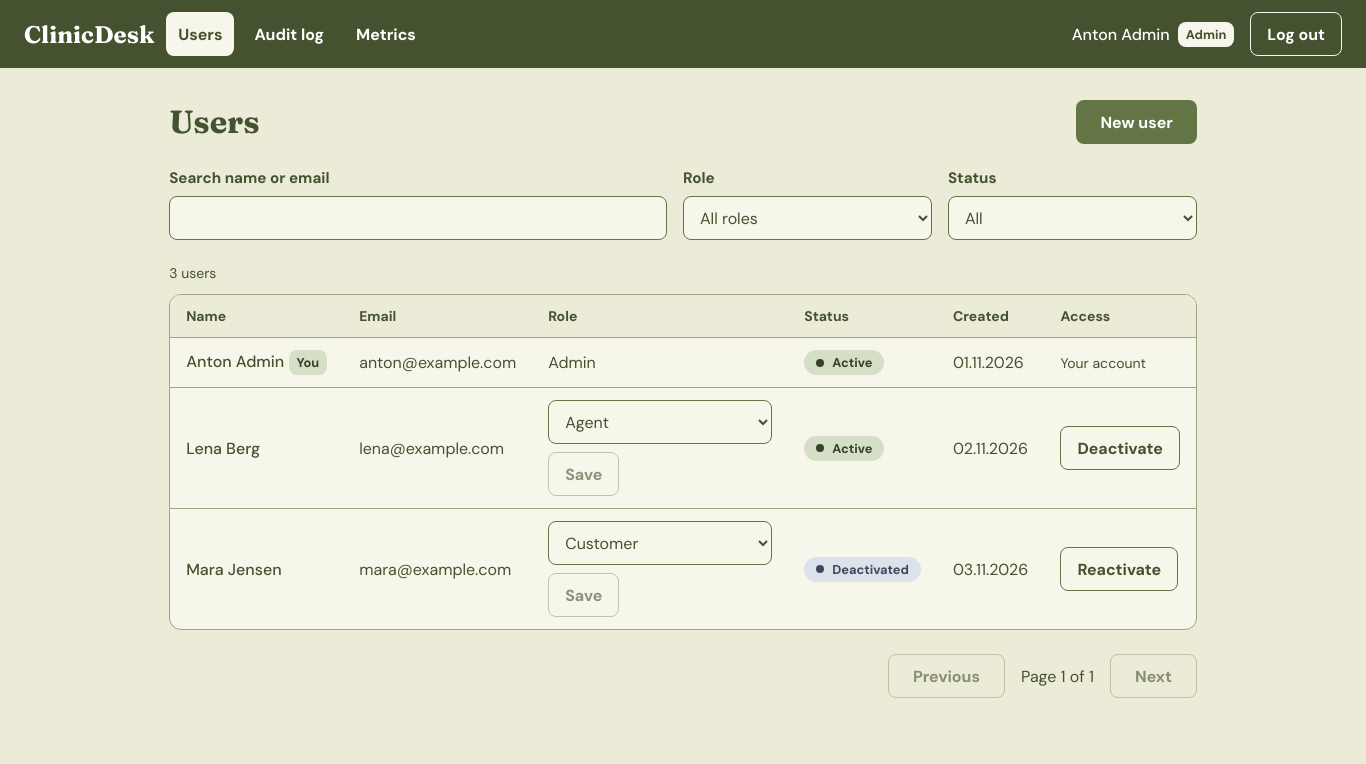
Scenario: create user › creates a user, shows a confirmation and reloads the list
Click the button "New user" at (1137, 122), box x1=1076 y1=100 x2=1197 y2=144
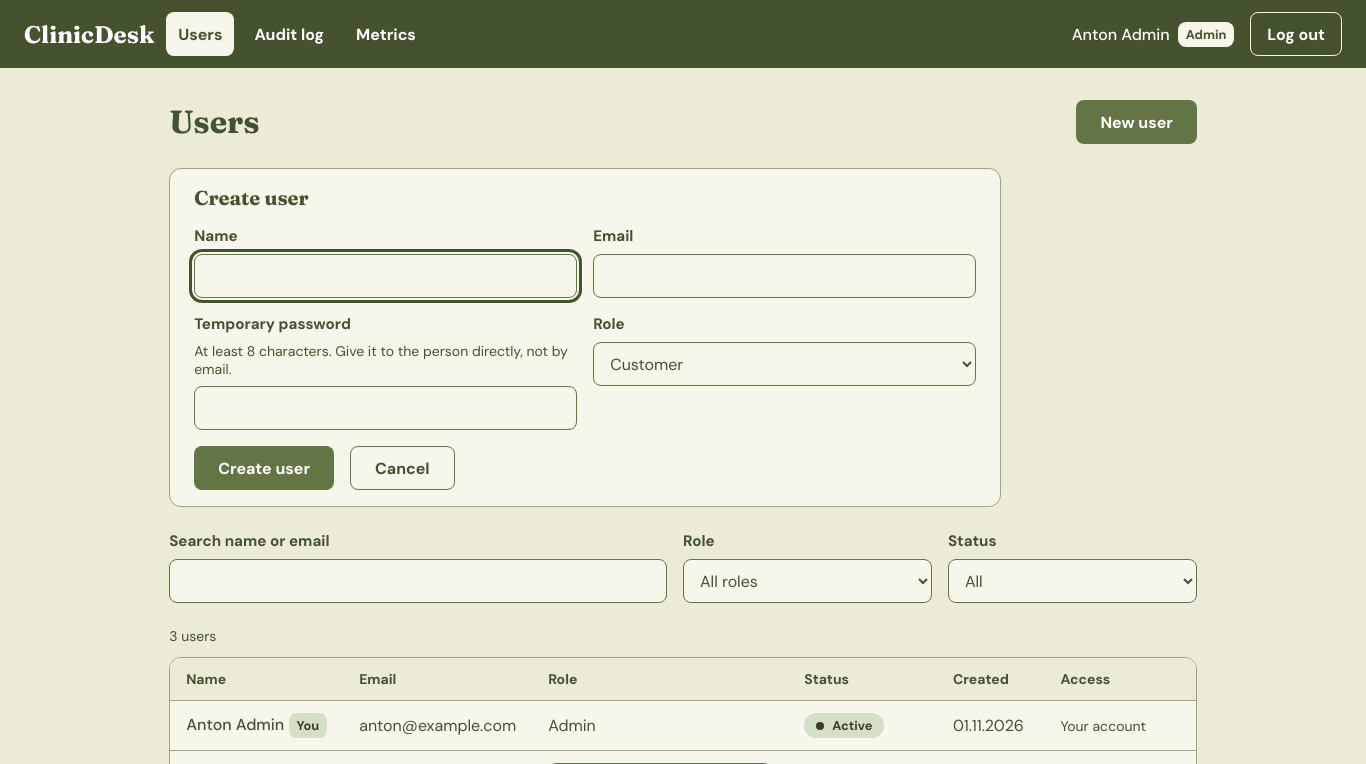
Type "Omar Haddad" into the field labelled "Name" at (386, 276), box x1=194 y1=254 x2=577 y2=298
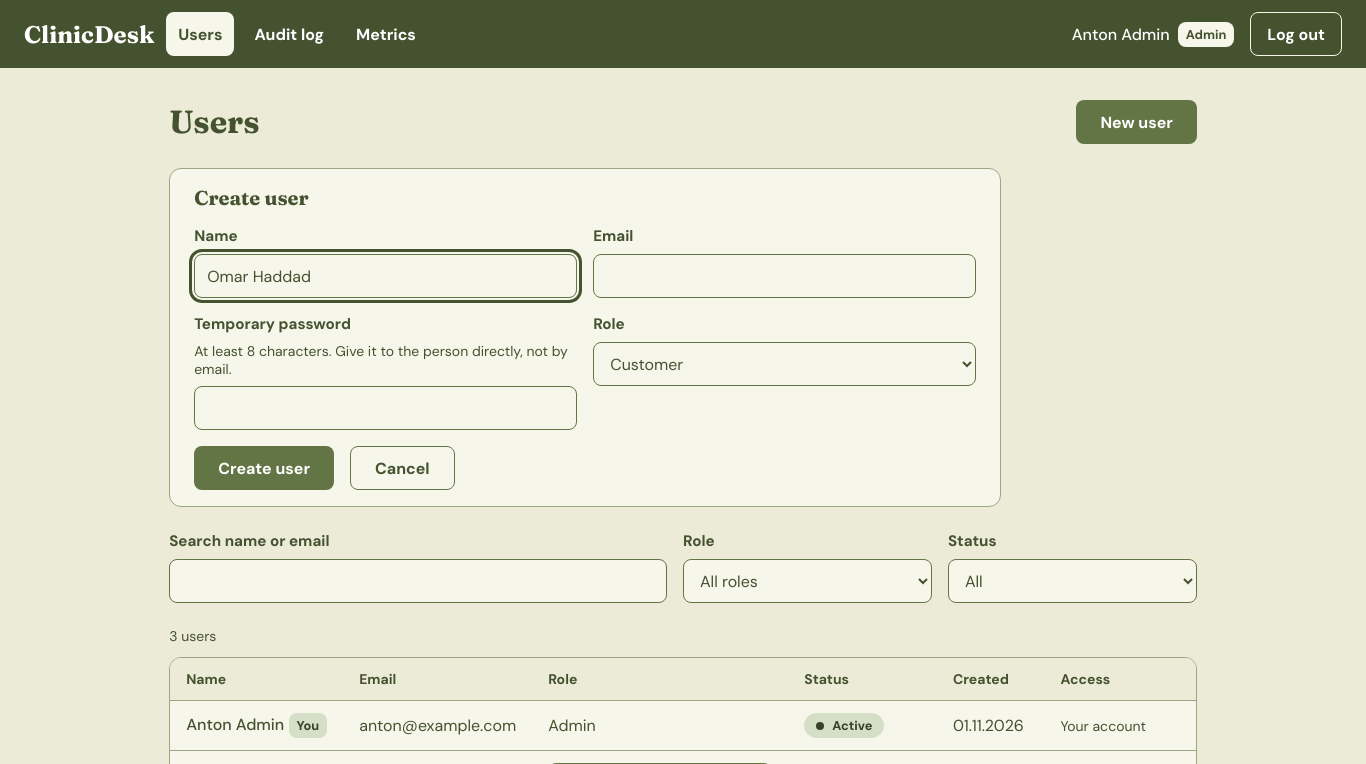
Type "  omar@example.com " into the field labelled "Email" at (785, 276), box x1=593 y1=254 x2=976 y2=298
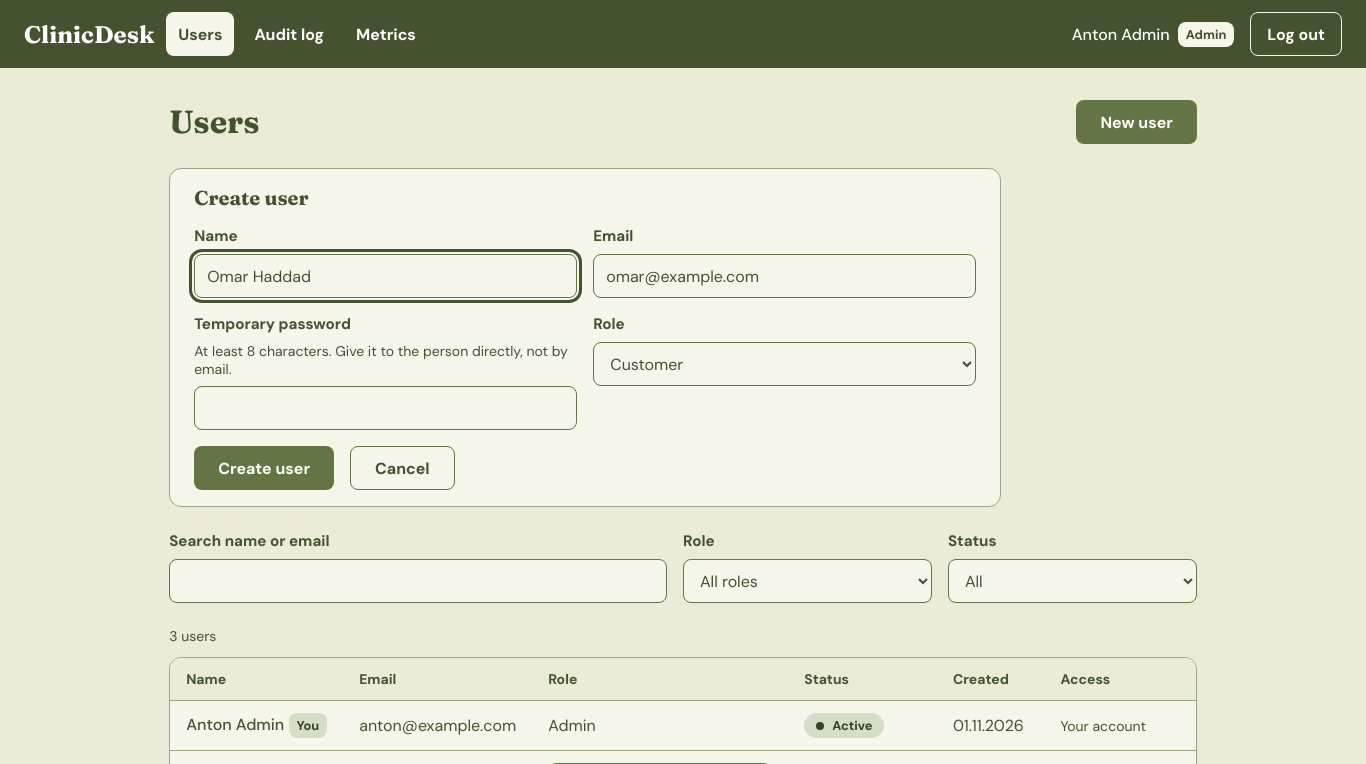
Type "temp-pass-123" into the password field labelled "Temporary password" at (386, 408), box x1=194 y1=386 x2=577 y2=430
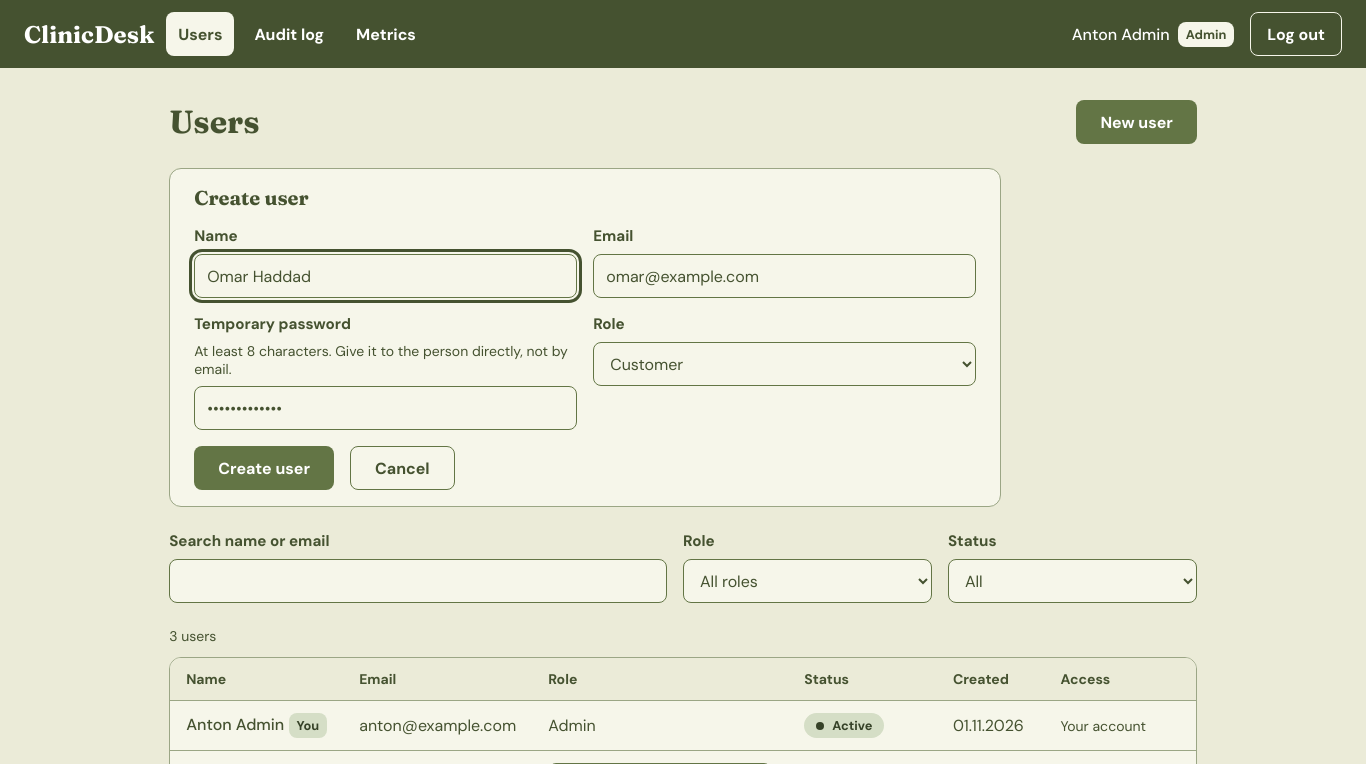
Select "Agent" in the dropdown labelled "Role" below "Temporary password" at (785, 364), box x1=593 y1=342 x2=976 y2=386
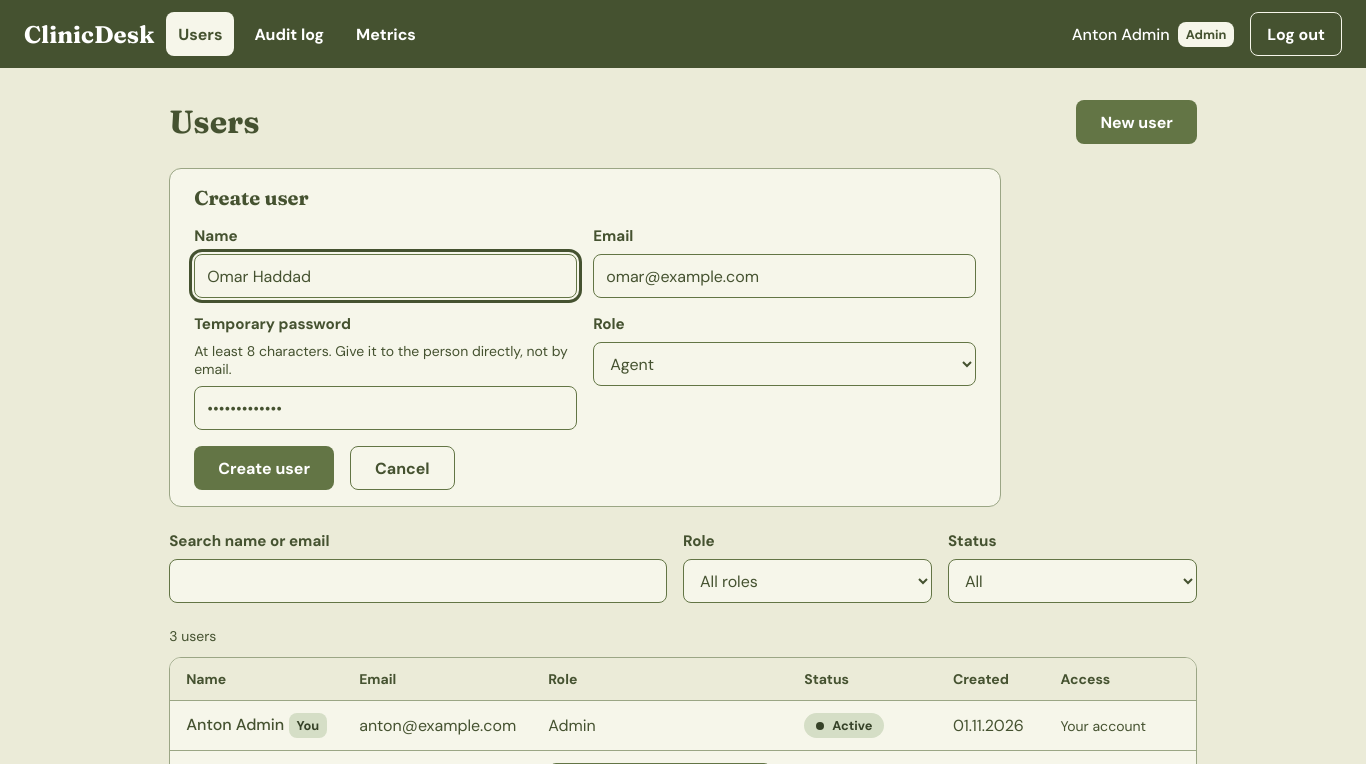
Click the button "Create user" at (264, 468), box x1=194 y1=446 x2=334 y2=490
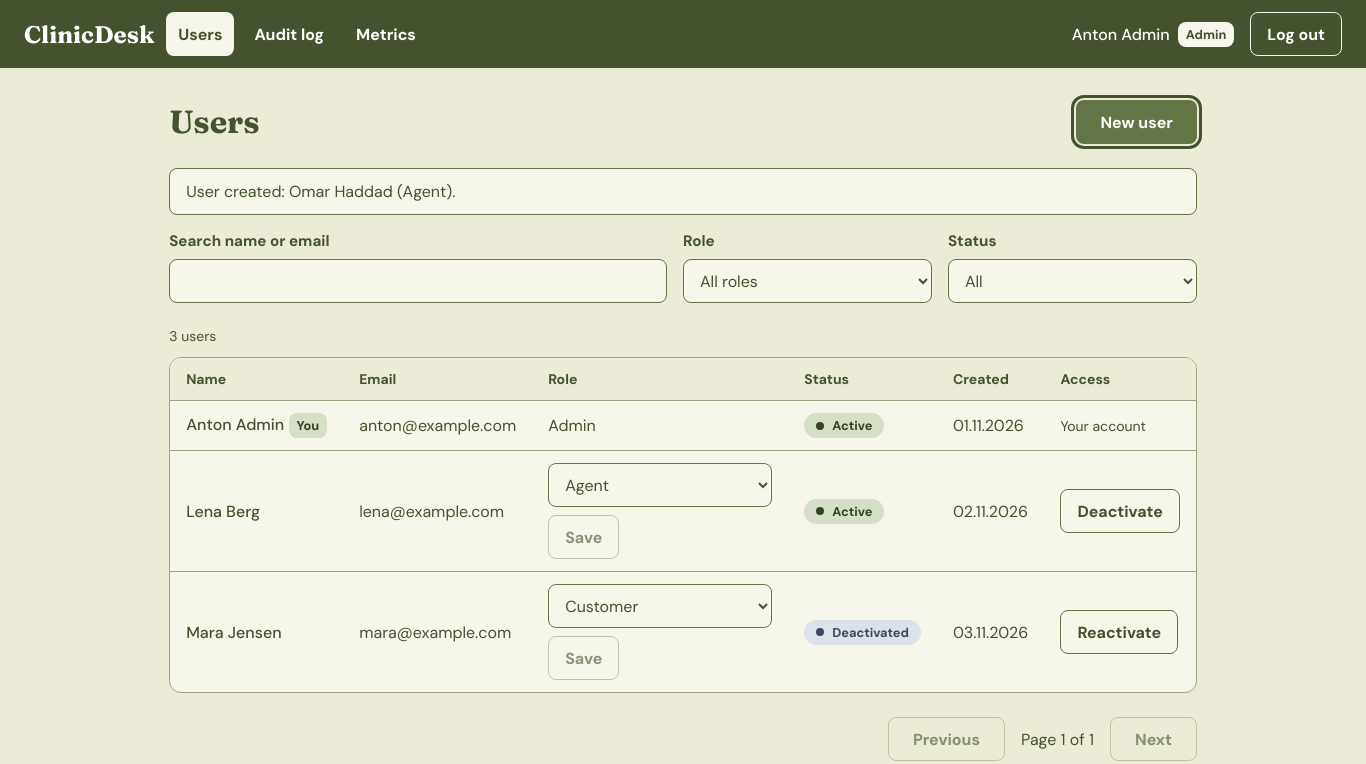
Now the text "User created: Omar Haddad (Agent)." is shown, box x1=169 y1=168 x2=1197 y2=215
Now the heading "Create user" is gone
